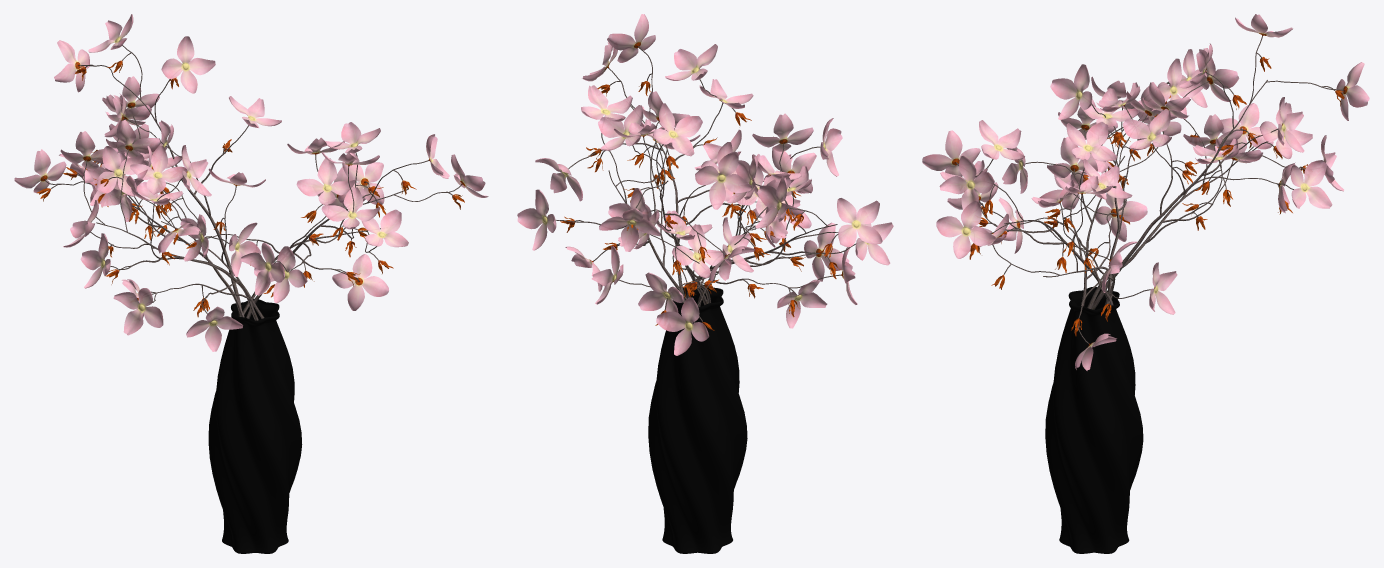
File: tableFlower2.glb
3 views of the same model, side by side, from view 1: azimuth 30°, elevation 25°; view 2: azimuth 150°, elevation 25°; view 3: azimuth 270°, elevation 25° (orthographic). The views are drawn at different scales.
Visible parts, largest first — view 1: GrowFX01_02 - Default_0.001, Plane01_Material #34_0.001, GrowFX01_Material #60_0.001, GrowFX01_01 - Default_0.001; view 2: GrowFX01_02 - Default_0.001, Plane01_Material #34_0.001, GrowFX01_Material #60_0.001, GrowFX01_01 - Default_0.001; view 3: GrowFX01_02 - Default_0.001, Plane01_Material #34_0.001, GrowFX01_Material #60_0.001, GrowFX01_01 - Default_0.001.
Part boxes in pixels (left/top/right/bottom): GrowFX01_02 - Default_0.001: left=14, top=14, right=488, bottom=351; Plane01_Material #34_0.001: left=208, top=298, right=302, bottom=553; GrowFX01_Material #60_0.001: left=44, top=45, right=461, bottom=320; GrowFX01_01 - Default_0.001: left=37, top=60, right=465, bottom=317; GrowFX01_02 - Default_0.001: left=517, top=14, right=893, bottom=355; Plane01_Material #34_0.001: left=648, top=284, right=747, bottom=553; GrowFX01_Material #60_0.001: left=555, top=46, right=855, bottom=322; GrowFX01_01 - Default_0.001: left=560, top=42, right=843, bottom=330; GrowFX01_02 - Default_0.001: left=922, top=14, right=1369, bottom=370; Plane01_Material #34_0.001: left=1045, top=286, right=1143, bottom=553; GrowFX01_Material #60_0.001: left=956, top=35, right=1343, bottom=343; GrowFX01_01 - Default_0.001: left=952, top=33, right=1347, bottom=347.
Size of the model in its own units: 0.9261 by 1.21 by 0.9771.
Materials: 4 (3 with a texture image).
